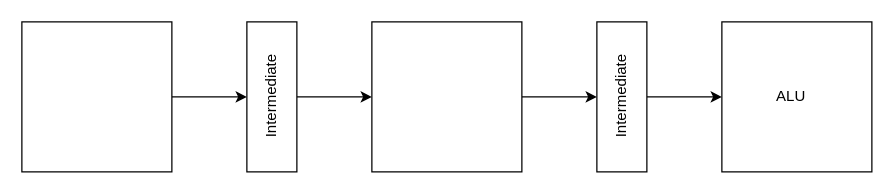
The diagram is 894 pixels wide and 194 high, and some of its shapes have lost their labels. Each missing label, with the centre of its shape:
Counter: the point at 96,96
ROM: the point at 446,96
